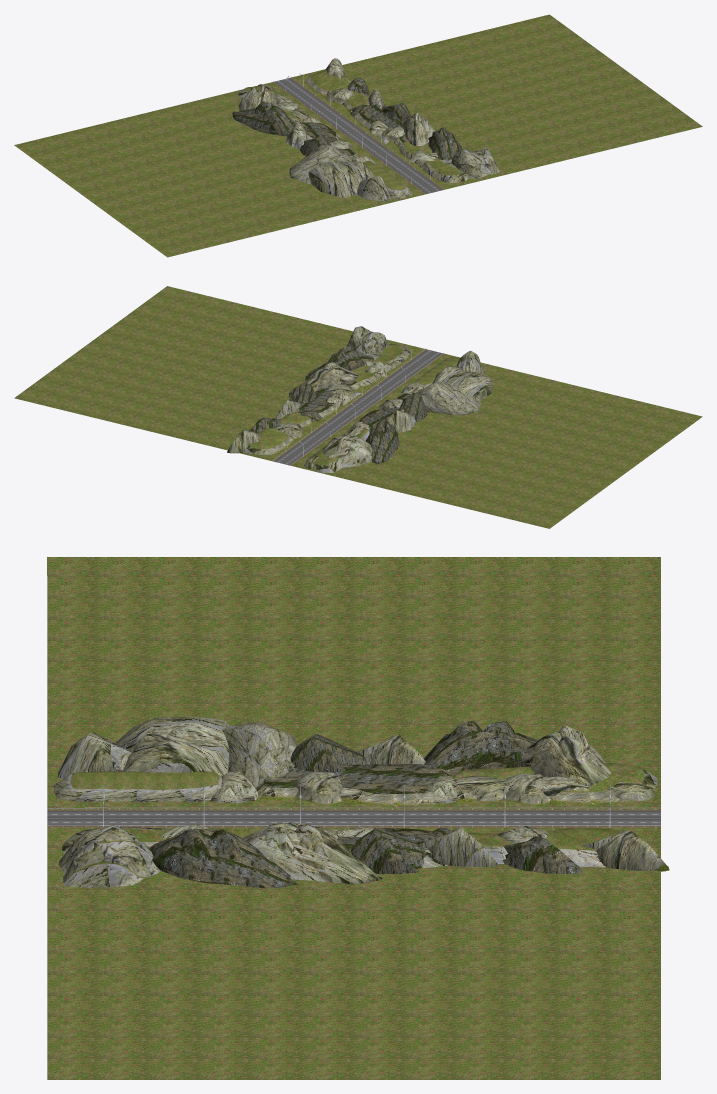
File: green _ p_01.FBX
3 renders of one model, top to bottom at view 1: azimuth 30°, elevation 25°; view 2: azimuth 150°, elevation 25°; view 3: azimuth 270°, elevation 25°, orthographic. The views are drawn at different scales.
Parts seen in each view (by area): view 1: plan_1, plan_3, roads_02, Cylinder011, Object040, Object020, Object033, Object036, Object044, Cylinder009, Object025, Object002 (+7 smaller); view 2: plan_1, plan_3, roads_02, Object040, Object025, Object044, Object020, Cylinder011, Object036, Object035, Object033, Cylinder006 (+7 smaller); view 3: plan_1, plan_3, roads_02, Object044, Cylinder006, Object002, Line001, Object041, Cylinder011, Object042, Cylinder009, Object033 (+7 smaller).
Boxes of the visible parts, x1=… form: plan_1: x1=291, y1=14, x2=702, y2=189; plan_3: x1=14, y1=82, x2=425, y2=257; roads_02: x1=273, y1=77, x2=443, y2=194; Cylinder011: x1=308, y1=161, x2=374, y2=198; Object040: x1=305, y1=69, x2=371, y2=116; Object020: x1=394, y1=137, x2=469, y2=182; Object033: x1=232, y1=102, x2=296, y2=136; Object036: x1=353, y1=105, x2=408, y2=147; Object044: x1=325, y1=58, x2=411, y2=121; Cylinder009: x1=451, y1=147, x2=499, y2=178; Object025: x1=289, y1=144, x2=352, y2=183; Object002: x1=300, y1=122, x2=360, y2=158; plan_1: x1=14, y1=286, x2=425, y2=461; plan_3: x1=291, y1=353, x2=702, y2=528; roads_02: x1=273, y1=349, x2=443, y2=465; Object040: x1=244, y1=410, x2=322, y2=454; Object025: x1=415, y1=382, x2=481, y2=415; Object044: x1=227, y1=382, x2=316, y2=453; Object020: x1=350, y1=344, x2=410, y2=390; Cylinder011: x1=432, y1=366, x2=492, y2=400; Object036: x1=299, y1=380, x2=363, y2=418; Object035: x1=322, y1=435, x2=372, y2=467; Object033: x1=365, y1=420, x2=399, y2=464; Cylinder006: x1=304, y1=422, x2=369, y2=472; plan_1: x1=47, y1=827, x2=660, y2=1079; plan_3: x1=47, y1=557, x2=660, y2=809; roads_02: x1=47, y1=809, x2=660, y2=827; Object044: x1=351, y1=828, x2=669, y2=874; Cylinder006: x1=430, y1=763, x2=657, y2=804; Object002: x1=256, y1=764, x2=453, y2=806; Line001: x1=53, y1=771, x2=258, y2=804; Object041: x1=148, y1=828, x2=297, y2=888; Cylinder011: x1=115, y1=716, x2=229, y2=776; Object042: x1=241, y1=822, x2=382, y2=884; Cylinder009: x1=58, y1=824, x2=160, y2=887; Object033: x1=424, y1=721, x2=538, y2=776.
Size of the model in its own units: 11621 by 521 by 5851.
